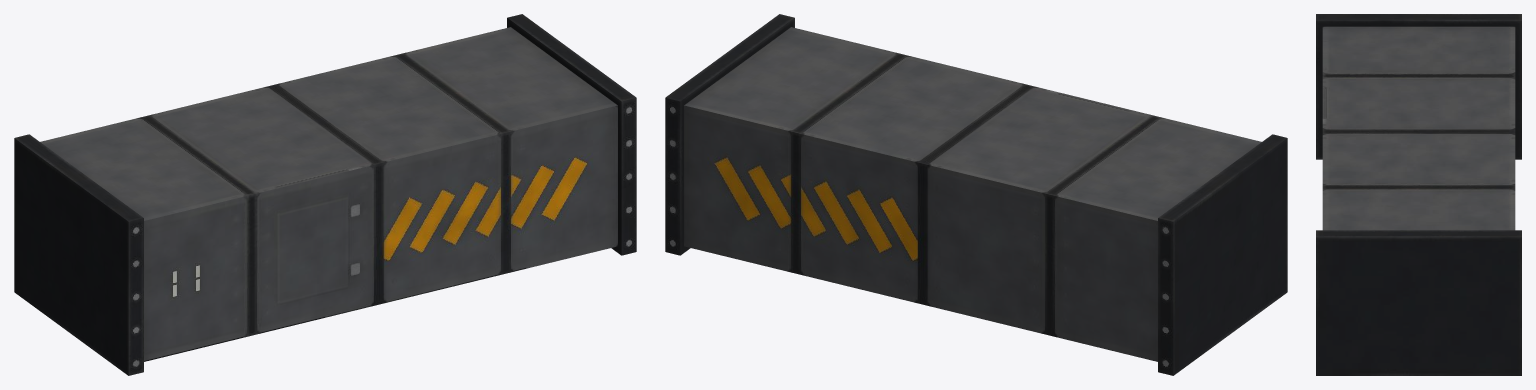
The model's file is low_duct.glb.
The picture shows the model from 3 angles, left to right: view 1: azimuth 30°, elevation 25°; view 2: azimuth 150°, elevation 25°; view 3: azimuth 270°, elevation 25°; orthographic projection. The views are drawn at different scales.
Visible parts, largest first — view 1: low_duct; view 2: low_duct; view 3: low_duct.
Boxes of the visible parts, x1,y1,x2,y2 form: low_duct: (14,14,636,375); low_duct: (665,14,1287,375); low_duct: (1316,14,1521,375).
Bounding box in the file's own units: 2 × 0.58 × 0.78.
Materials: 1 (1 with a texture image).
